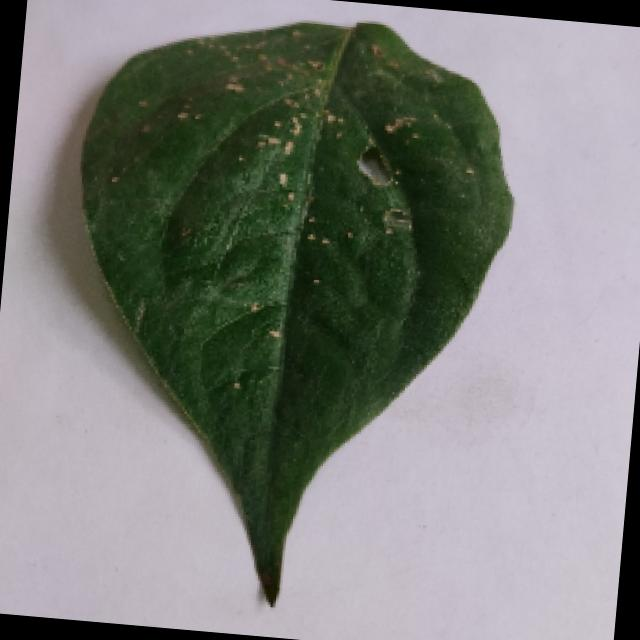pollu-disease: (11, 6, 550, 629)
